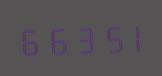five: (93, 19, 117, 54)
one: (118, 18, 142, 53)
six: (18, 22, 42, 57), (43, 21, 67, 56)
three: (68, 20, 92, 55)
